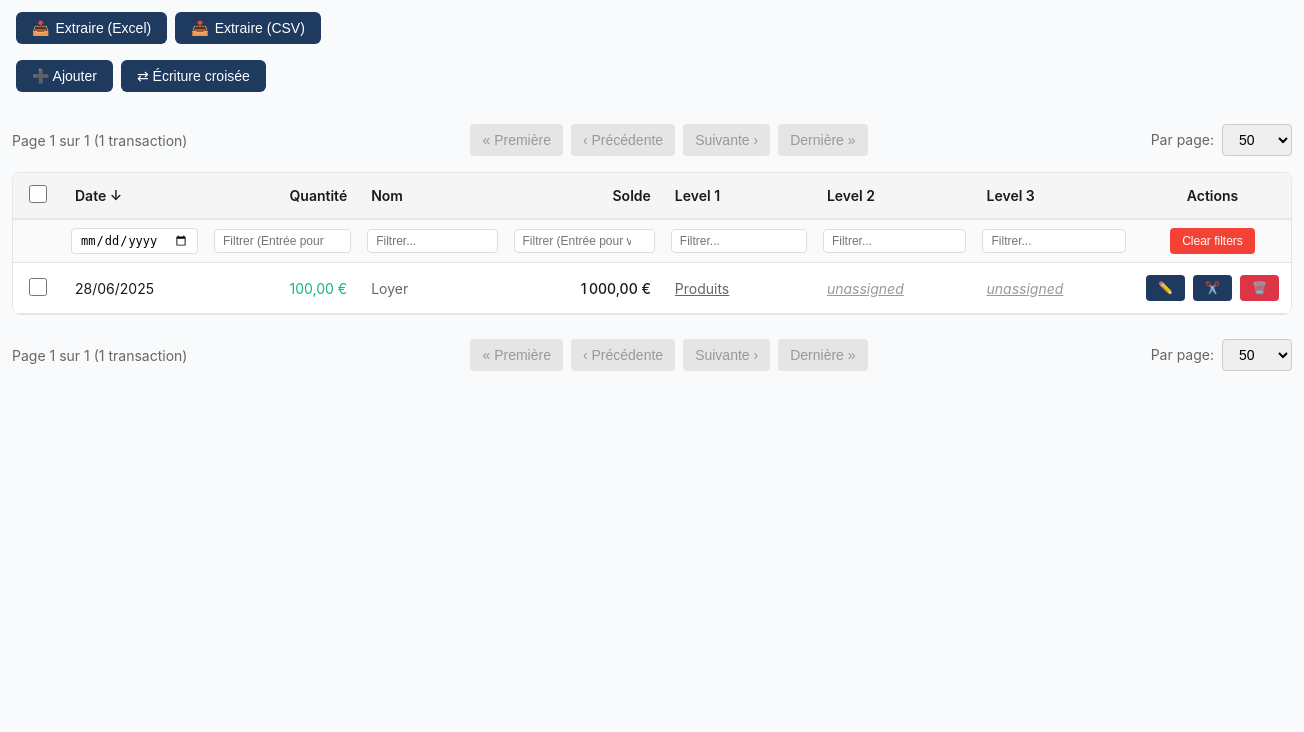
Scenario: le bouton Valider de l'éclatement est désactivé tant que la somme des parts ne correspond pas au montant
The width and height of the screenshot is (1304, 732).
Expected: the text "Loyer" is shown, x1=371 y1=280 x2=408 y2=296
Step 1. Click the button "✂️" → [1212, 288], box x1=1193 y1=275 x2=1232 y2=301
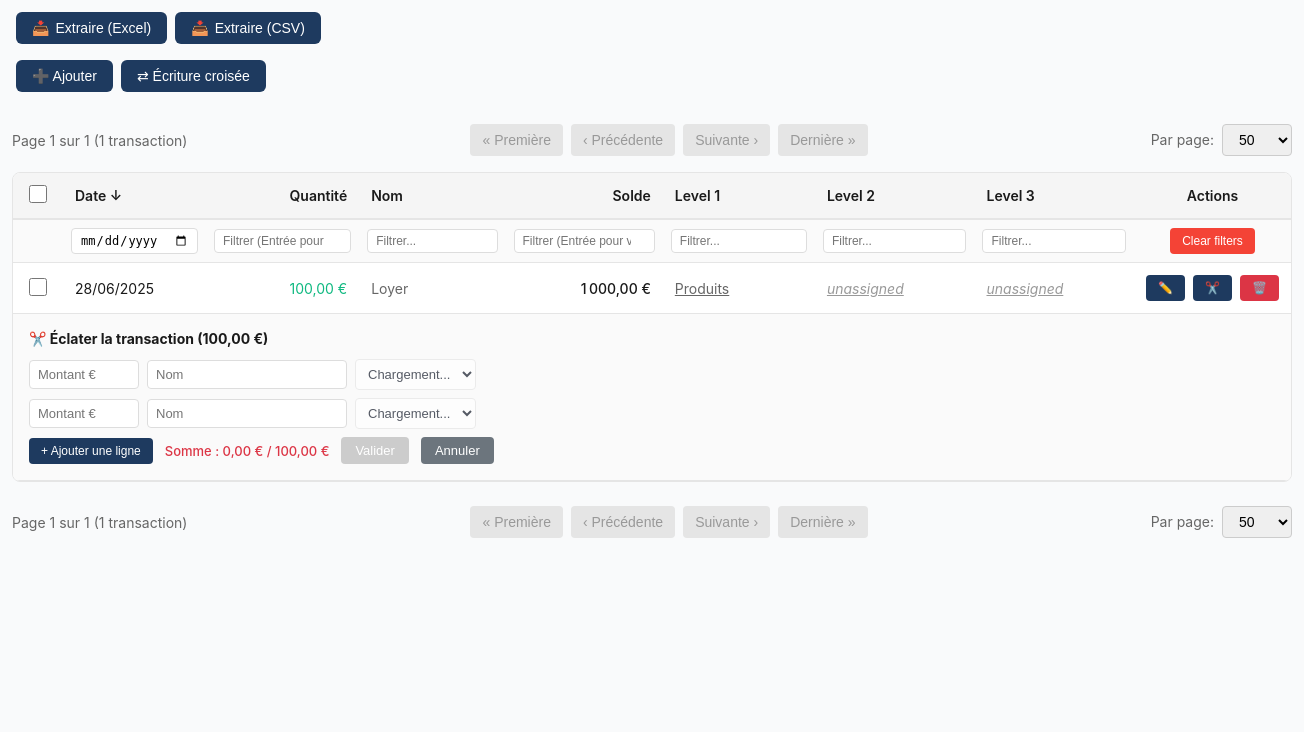
Step 2. Type "40" into the 1st number field with placeholder "Montant €" → [84, 374], box x1=29 y1=360 x2=139 y2=389
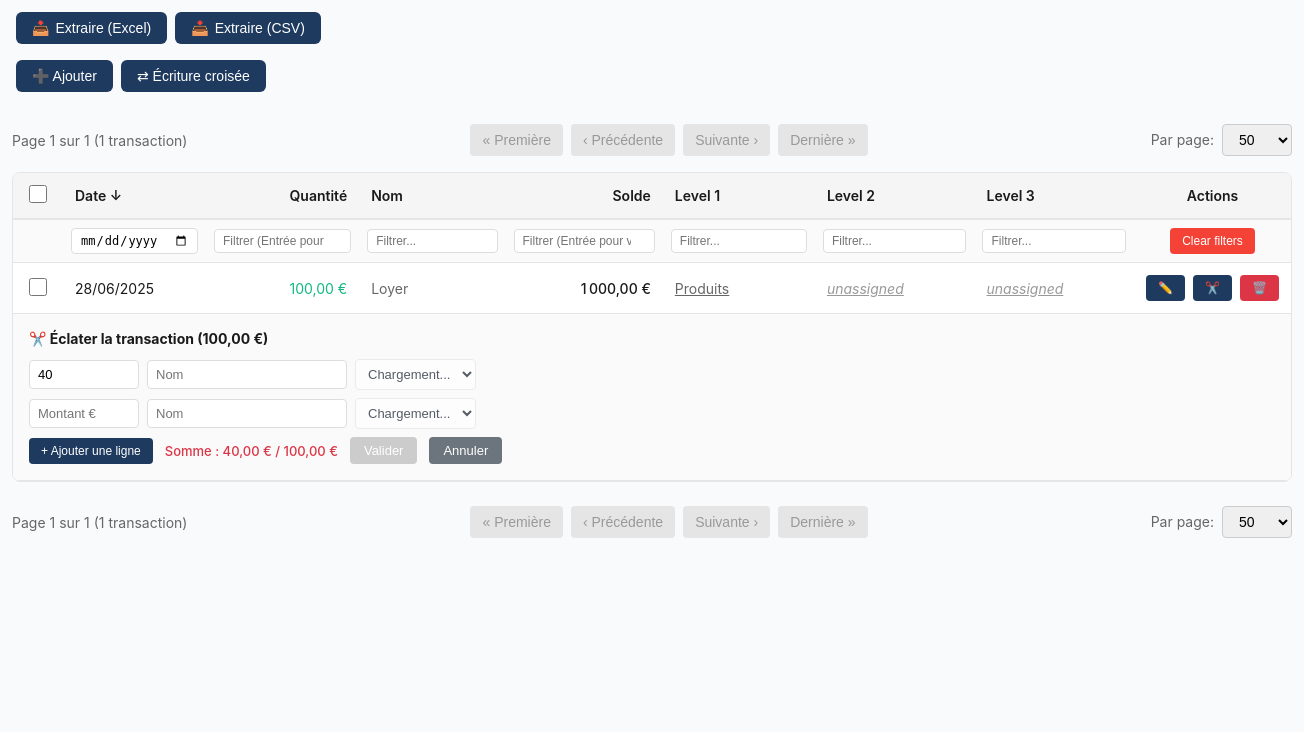
Step 3. Type "30" into the number field with placeholder "Montant €" → [84, 414], box x1=29 y1=399 x2=139 y2=428
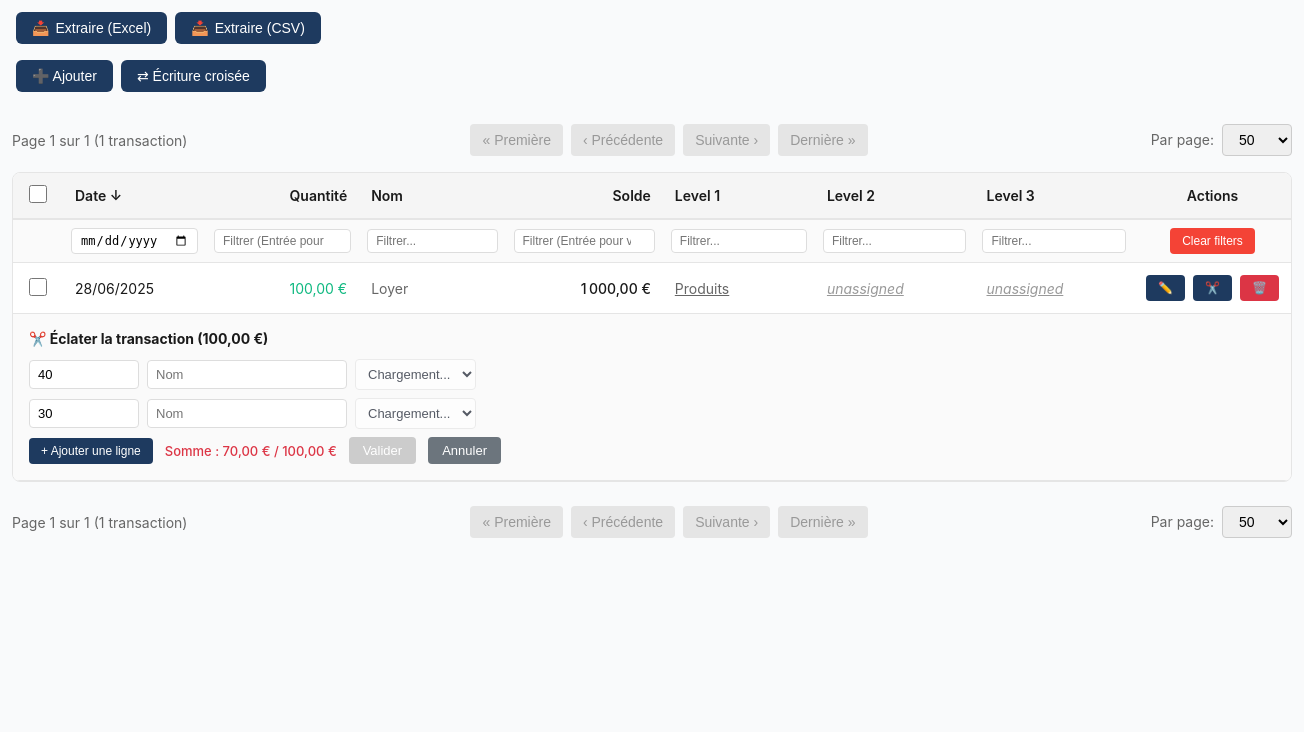
Result: the button "Valider" is disabled at x1=349 y1=437 x2=416 y2=464
Step 4. Replace the text in the number field with placeholder "Montant €" with "60" → [84, 414], box x1=29 y1=399 x2=139 y2=428
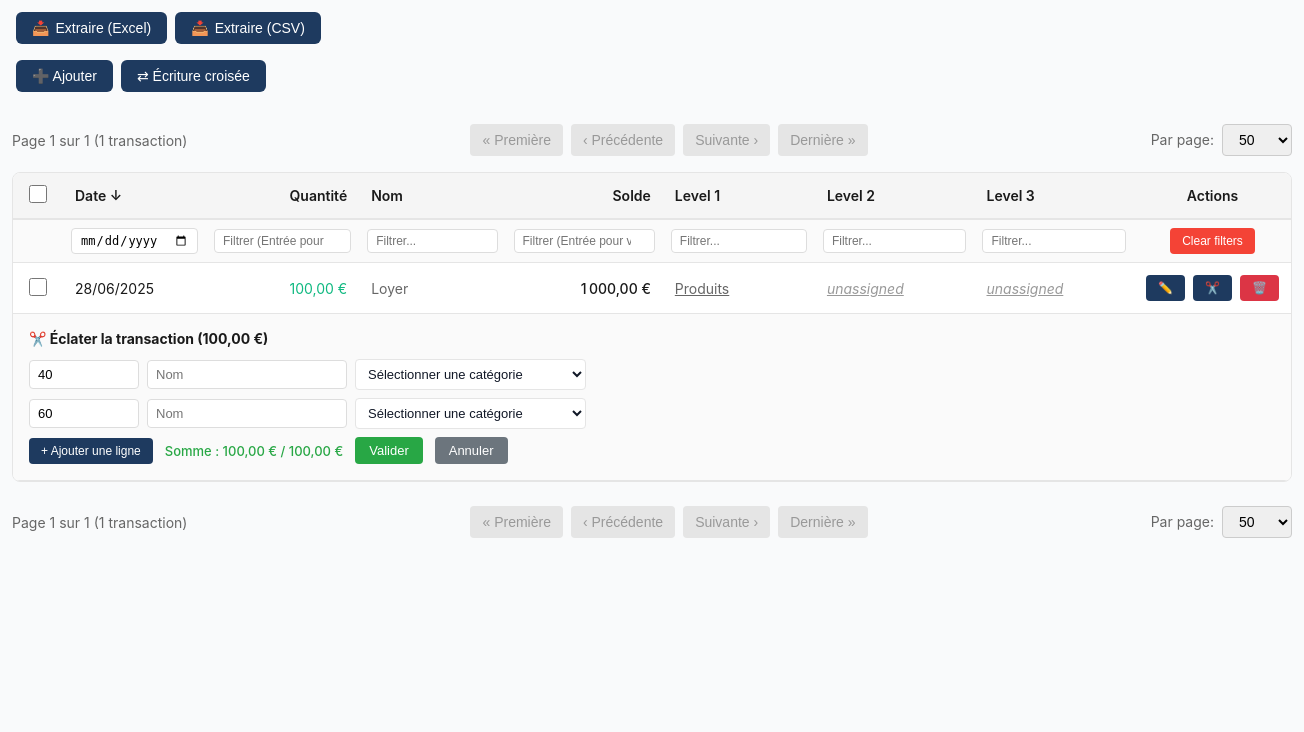
Result: the button "Valider" is enabled at x1=355 y1=437 x2=423 y2=464
